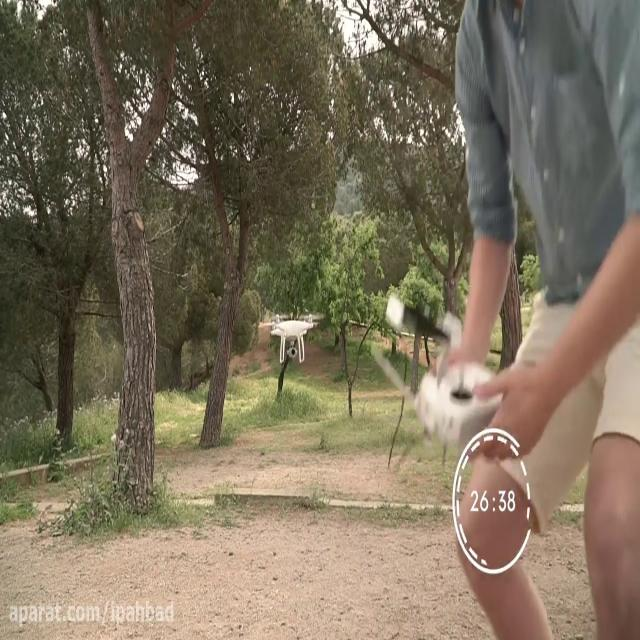drone: (262, 306, 326, 368)
